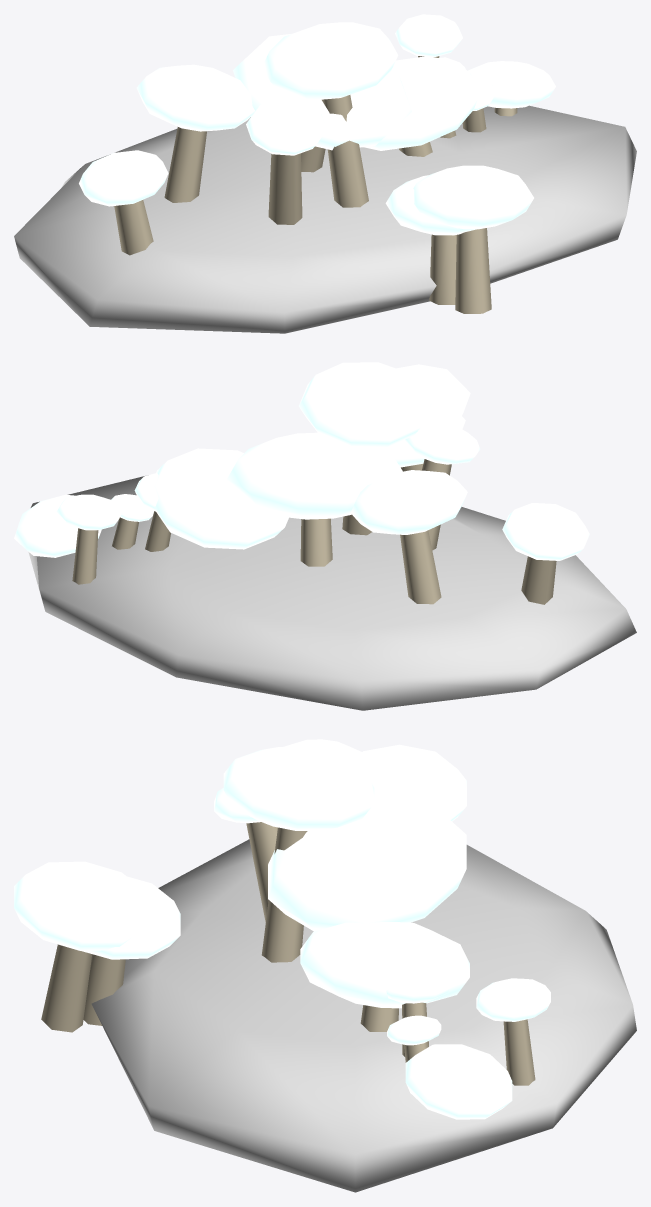
File: GlowMushrooms.fbx
3 views of the same model, one above another, from view 1: azimuth 30°, elevation 25°; view 2: azimuth 150°, elevation 25°; view 3: azimuth 270°, elevation 25° (orthographic). The views are drawn at different scales.
Parts seen in each view (by area): view 1: GlowMushrooms__moss, GlowMushrooms__glow_mushroom, GlowMushrooms__mushroom_stem; view 2: GlowMushrooms__moss, GlowMushrooms__glow_mushroom, GlowMushrooms__mushroom_stem; view 3: GlowMushrooms__moss, GlowMushrooms__glow_mushroom, GlowMushrooms__mushroom_stem.
Boxes of the visible parts, bbox=[...] form: GlowMushrooms__moss: bbox=[14, 105, 636, 333]; GlowMushrooms__glow_mushroom: bbox=[79, 14, 555, 235]; GlowMushrooms__mushroom_stem: bbox=[114, 56, 517, 313]; GlowMushrooms__moss: bbox=[28, 476, 636, 710]; GlowMushrooms__glow_mushroom: bbox=[14, 362, 589, 560]; GlowMushrooms__mushroom_stem: bbox=[72, 459, 556, 604]; GlowMushrooms__moss: bbox=[91, 839, 636, 1192]; GlowMushrooms__glow_mushroom: bbox=[14, 739, 550, 1119]; GlowMushrooms__mushroom_stem: bbox=[41, 822, 535, 1085].
Bounding box in the file's own units: 7.71 × 2.97 × 6.1.
